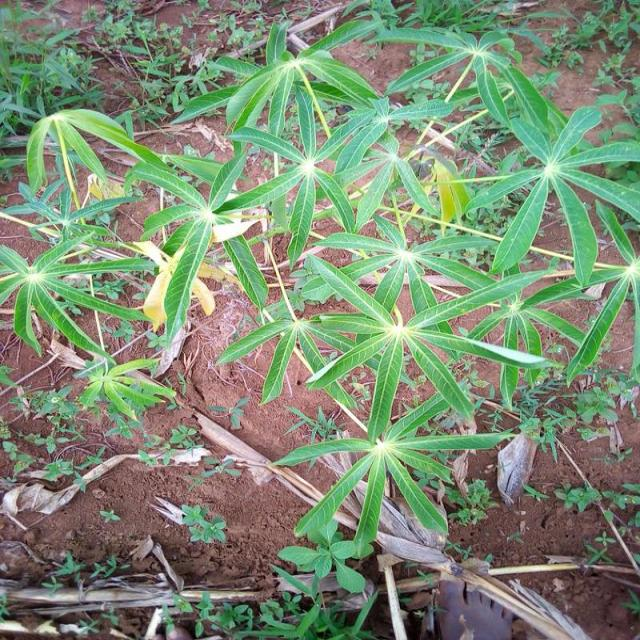cassava leaf: (4, 11, 639, 565)
